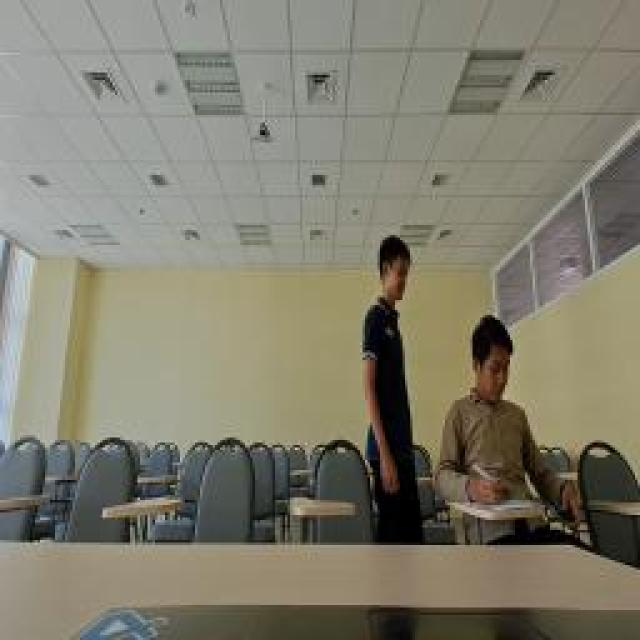study: (433, 310, 545, 508)
